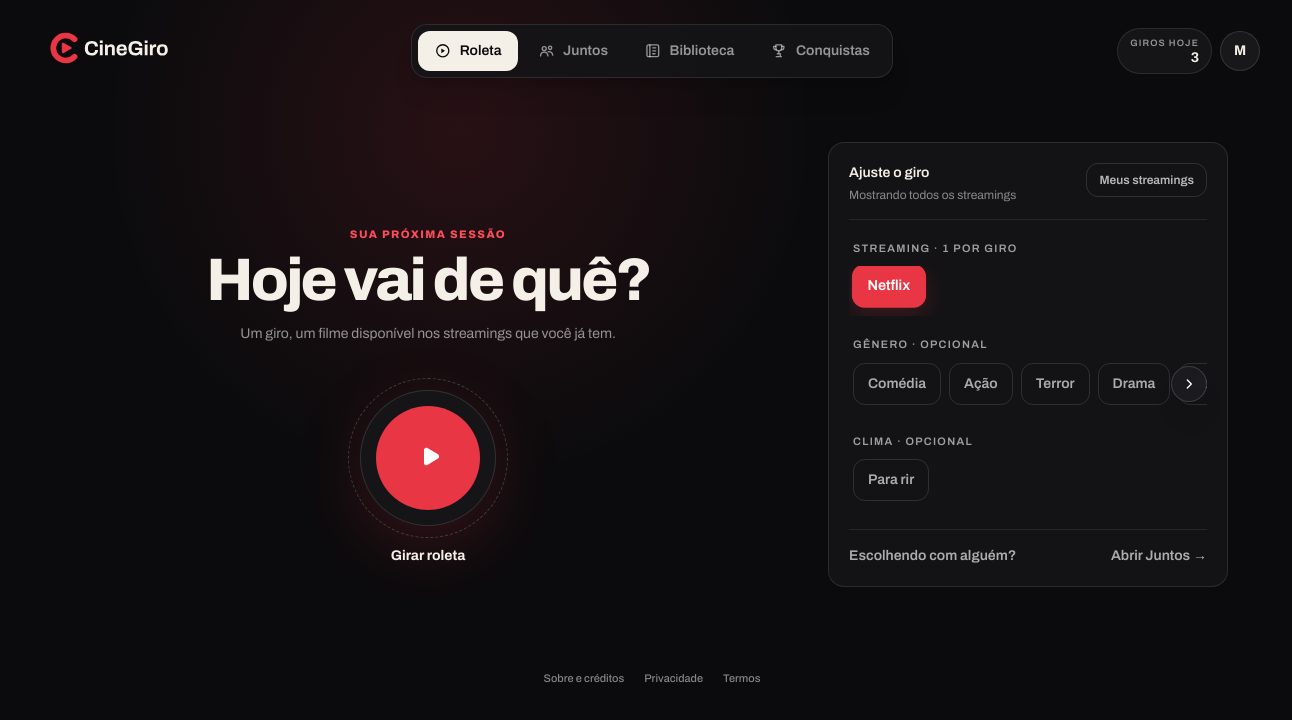
HomePage roulette › records social mode interest and opens the social lobby
This screenshot has width=1292, height=720.
Expected: the button "Netflix" is shown, [852,266,926,308]
Click the link "Escolhendo com alguém? Abrir Juntos →".
click(933, 555)  # box [849,529,1207,566]
(page scrolled)
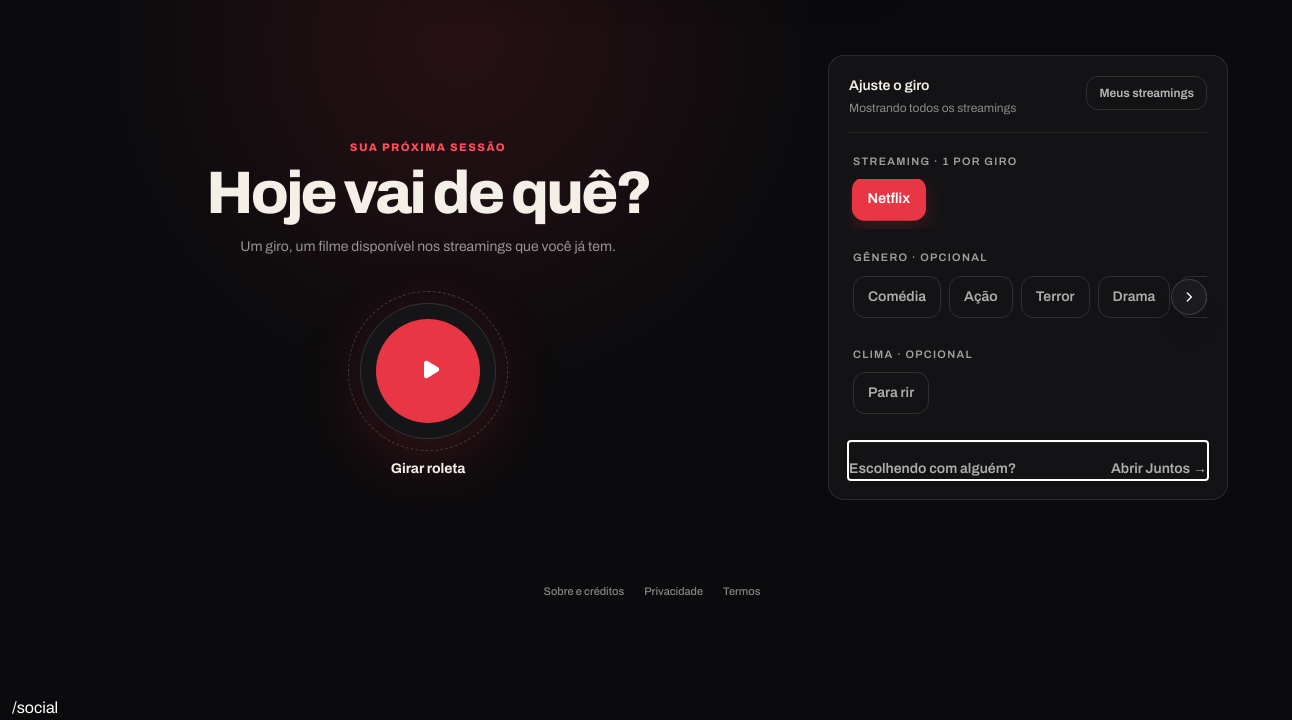
Expected: the text with test id "location" reads "/social", [12,698,58,716]
